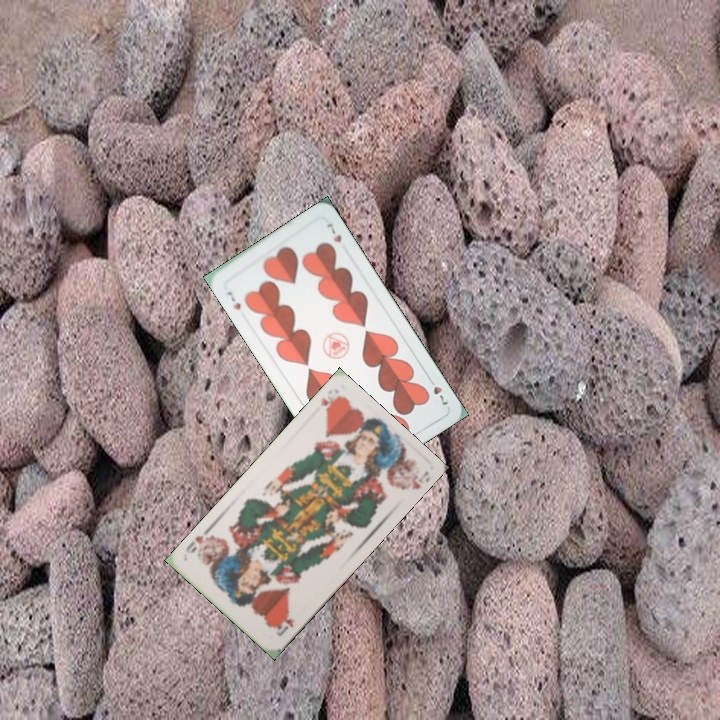H7: (424, 373, 451, 408), (223, 287, 243, 313)
HO: (272, 608, 298, 639), (316, 391, 343, 416)
